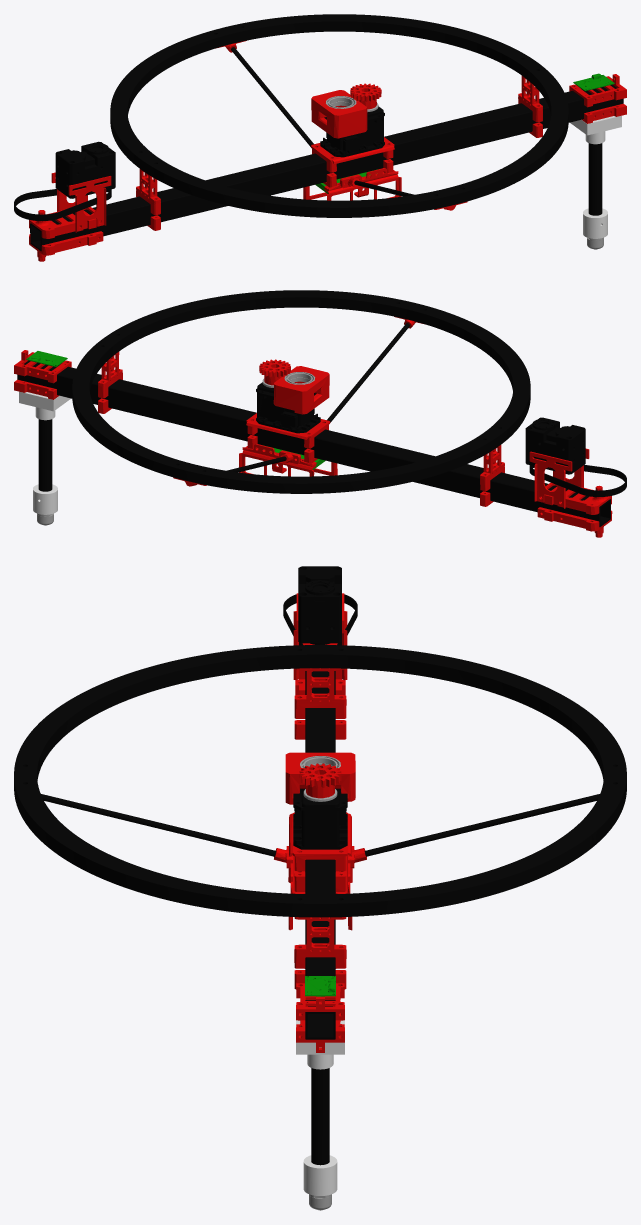
Rendered from end_link2.dae.
The picture shows the model from 3 angles, top to bottom: view 1: azimuth 30°, elevation 25°; view 2: azimuth 150°, elevation 25°; view 3: azimuth 270°, elevation 25°; orthographic projection. The views are drawn at different scales.
Parts seen in each view (by area): view 1: Black, Red, White, Silver, Green; view 2: Black, Red, White, Silver, Green; view 3: Black, Red, White.
Part boxes in pixels (x1,y1,x2,y2): Black: (14, 14, 623, 251); Red: (29, 40, 626, 261); White: (570, 115, 621, 238); Silver: (325, 96, 603, 249); Green: (315, 73, 614, 193); Black: (17, 290, 626, 527); Red: (14, 316, 612, 537); White: (19, 391, 70, 514); Silver: (37, 372, 315, 525); Green: (26, 351, 325, 469); Black: (14, 566, 626, 1165); Red: (274, 593, 366, 1052); White: (296, 1020, 344, 1195).
Size of the model in its own units: 0.6048 by 0.4 by 0.2149.
